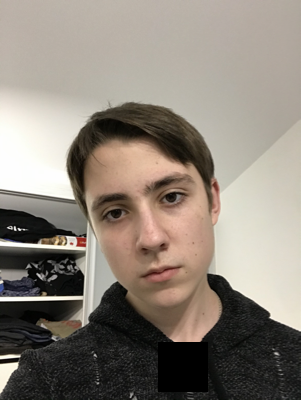without_mask: (89, 169, 215, 309)
